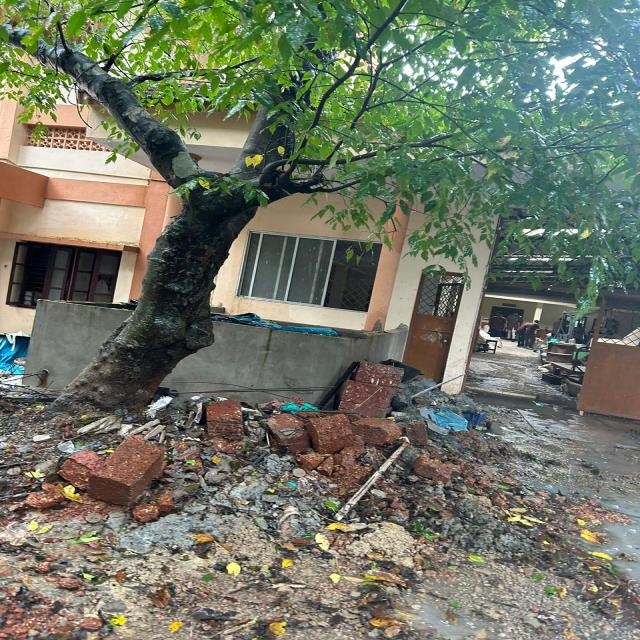stones ahead at: (188, 352, 426, 480), (63, 429, 169, 505)
tree ahead at: (50, 54, 359, 409)
